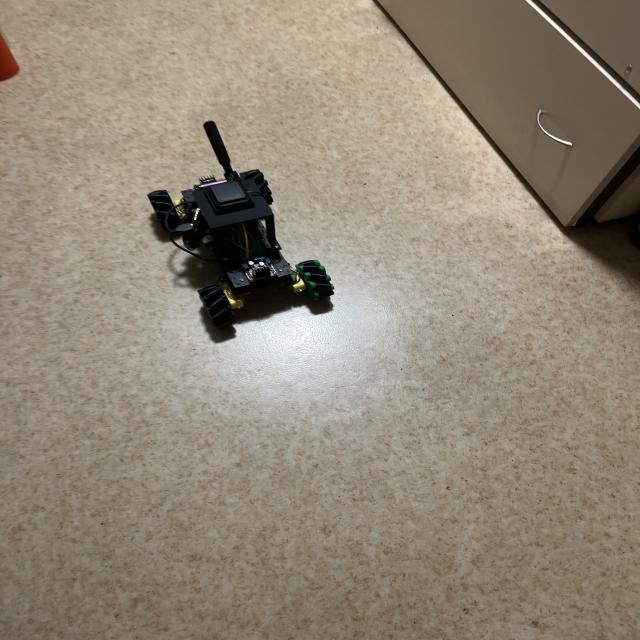robot: (148, 121, 334, 326)
